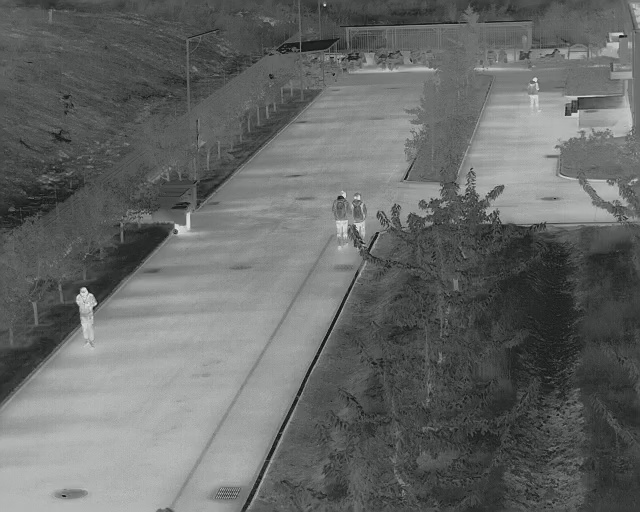person: (74, 284, 99, 349), (330, 188, 350, 250), (351, 190, 369, 235), (525, 75, 541, 116)
